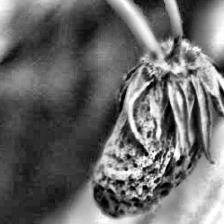Gray Mold: (91, 33, 224, 218)
